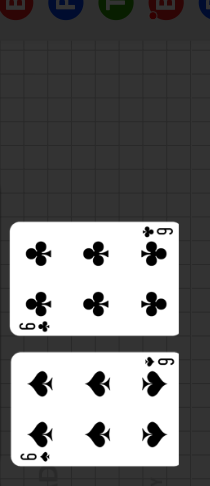6C: (140, 226, 175, 240)
6S: (142, 356, 175, 369)
